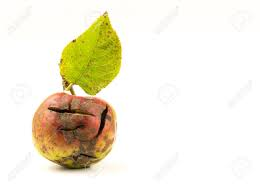damaged_apple: (34, 91, 119, 170)
